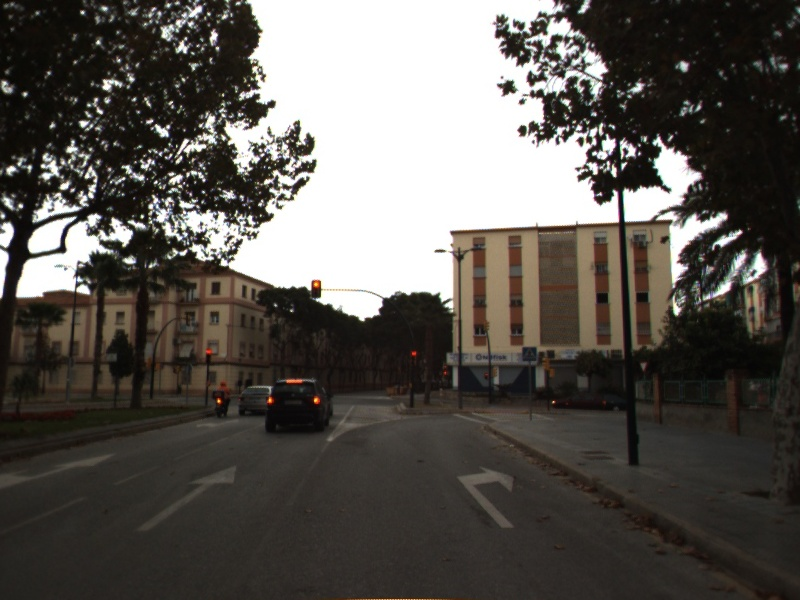RIGHT: (455, 462, 519, 531)
STRAIGHT: (131, 460, 239, 534)
STRAIGHT_LEFT: (1, 448, 122, 490)
